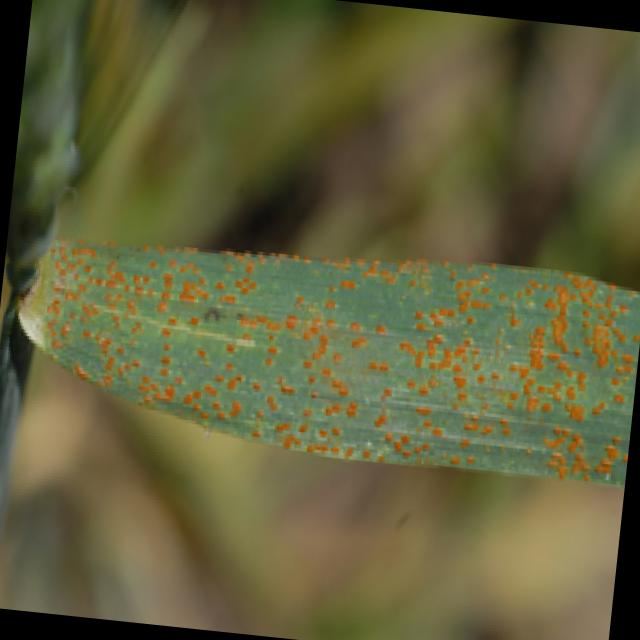leaf_rust: (20, 240, 640, 485)
